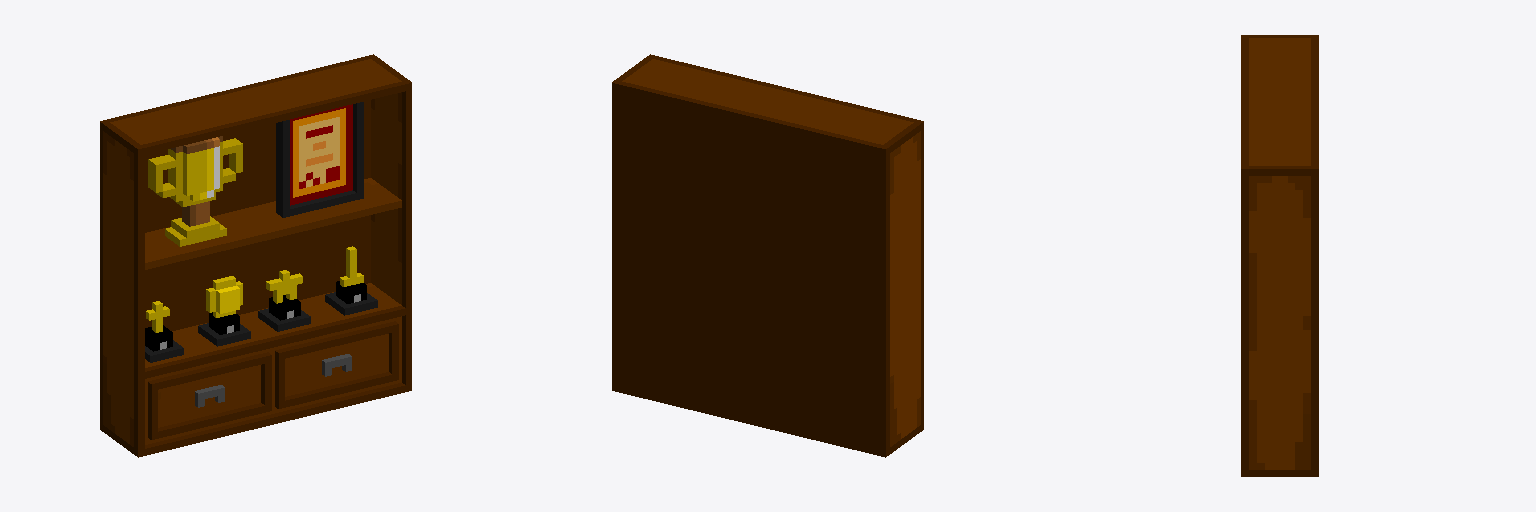
3 views of the same model, side by side, from view 1: azimuth 30°, elevation 25°; view 2: azimuth 150°, elevation 25°; view 3: azimuth 270°, elevation 25° (orthographic).
Visible parts, largest first — view 1: object 1; view 2: object 1; view 3: object 1.
Part boxes in pixels (x1,y1,x2,y2): object 1: (100,54,411,457); object 1: (612,54,923,457); object 1: (1241,35,1318,476).
Bounding box in the file's own units: 4.1 × 4.4 × 1.
1 materials, 1 textured.